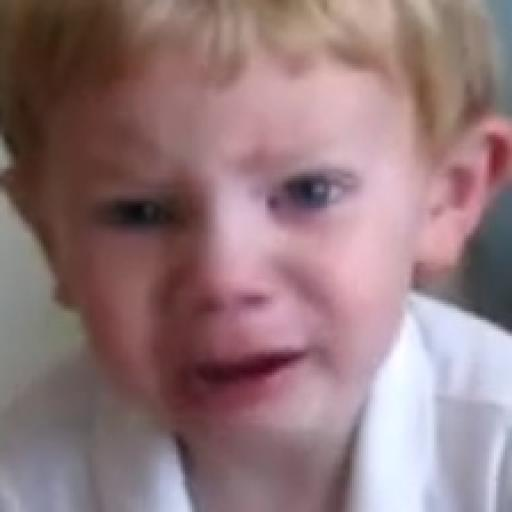Autism: (10, 6, 493, 505)
